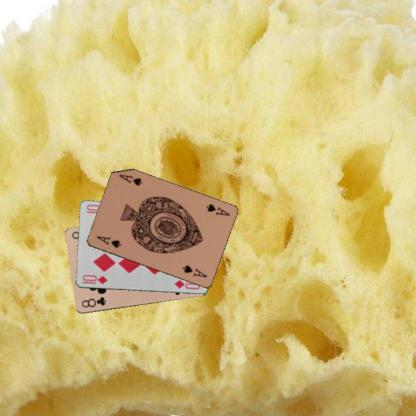10d: (80, 272, 108, 286)
8c: (79, 295, 108, 309)
As: (94, 233, 122, 249), (204, 202, 231, 217)
